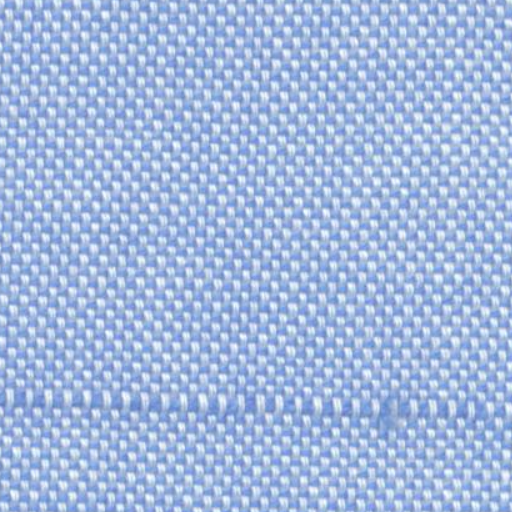DaiSha: (8, 378, 504, 438)
